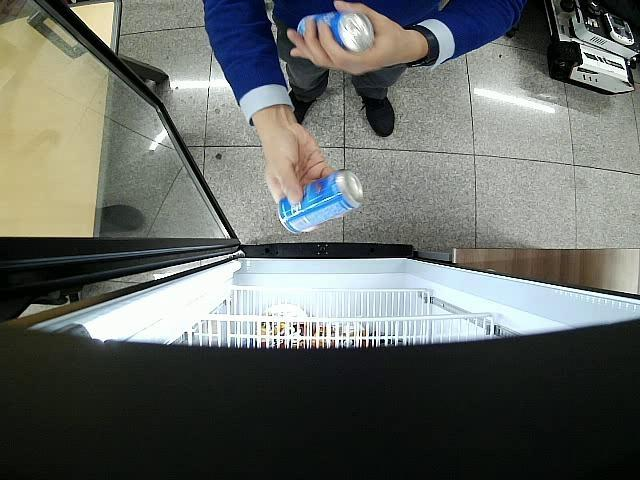15_letsbe: (278, 170, 362, 234), (296, 12, 375, 53)
